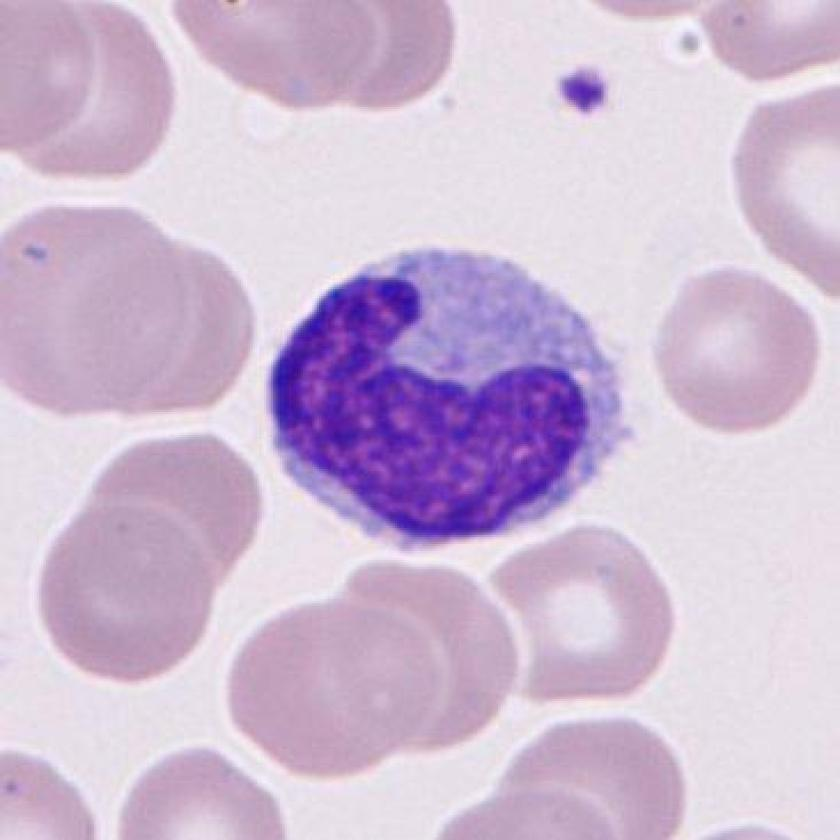monocyte: (242, 218, 662, 564)
